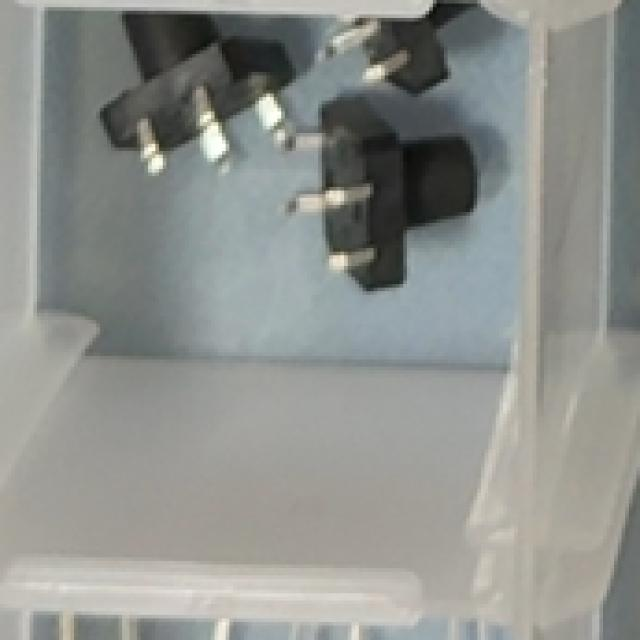Push Button: (280, 95, 473, 292), (101, 3, 292, 190), (318, 0, 484, 93)
